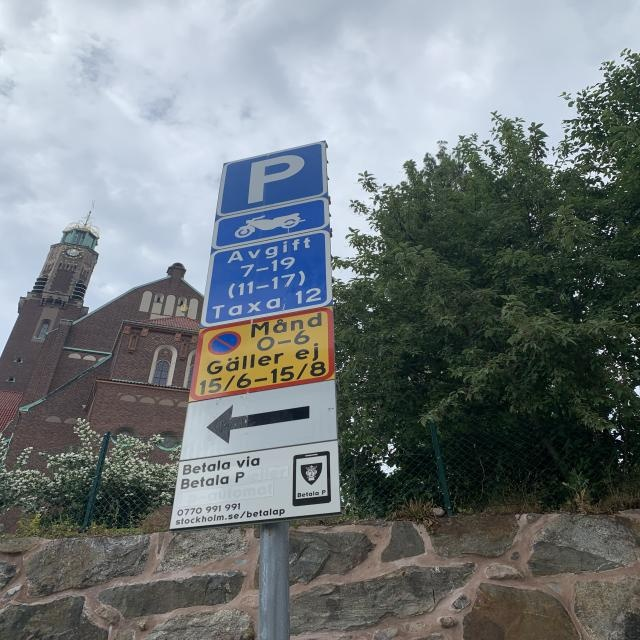P-skylt: (208, 135, 329, 219)
